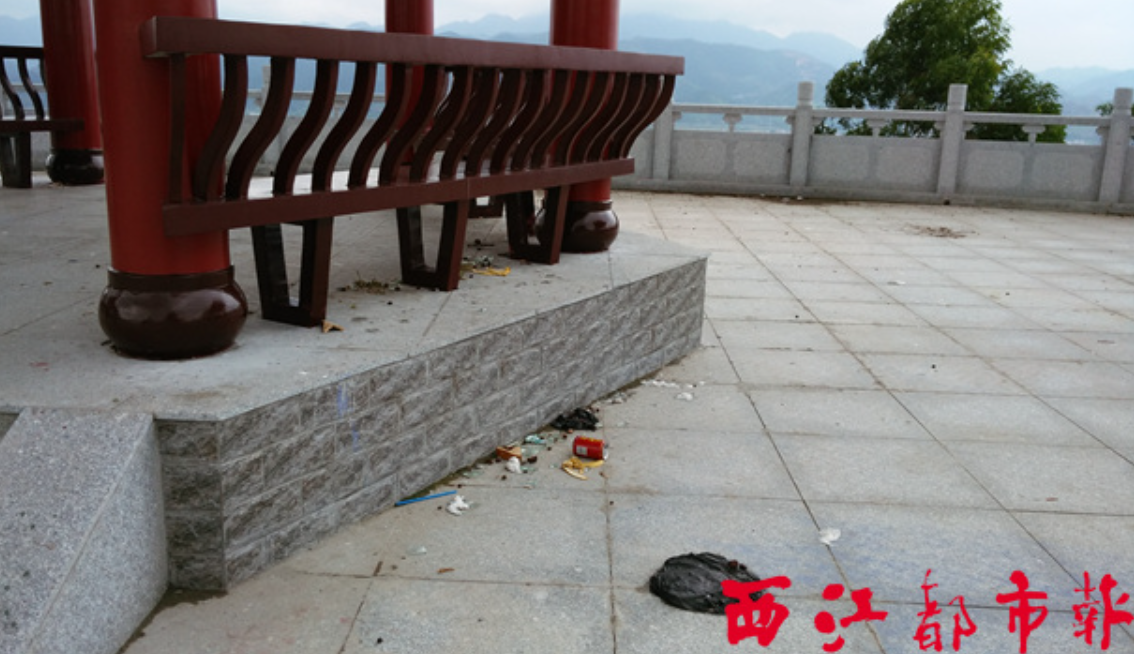garbage: (645, 552, 786, 625), (475, 436, 559, 482), (551, 435, 611, 487), (397, 482, 478, 519), (544, 414, 619, 447), (336, 273, 406, 307), (455, 255, 510, 287), (307, 314, 343, 348)
